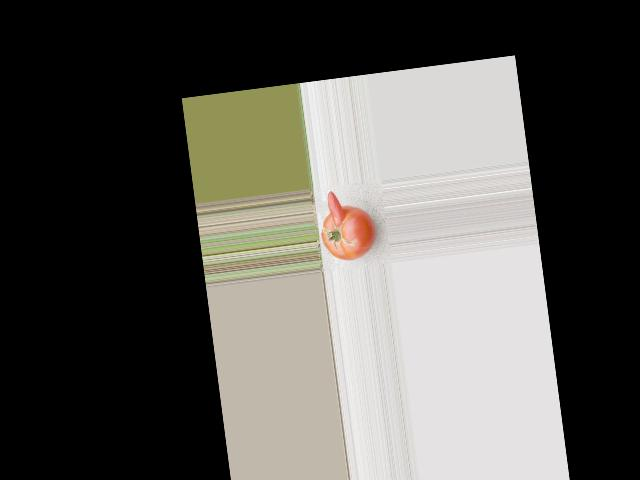tomato: (318, 202, 378, 264)
